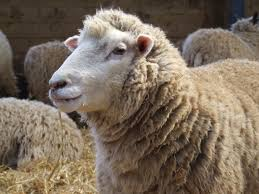koyun: (47, 9, 254, 194)
